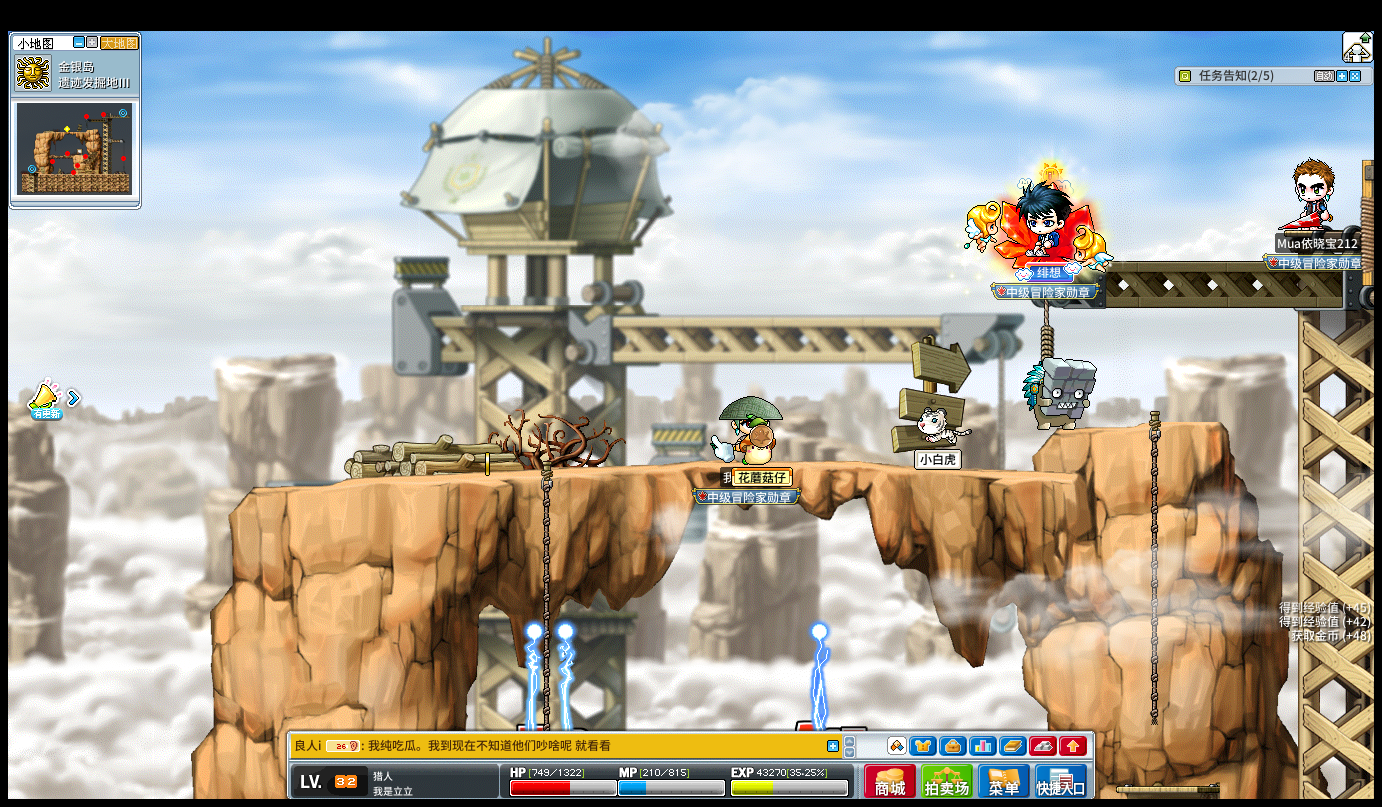floor: (237, 454, 1114, 488), (1057, 418, 1226, 433)
monster: (1021, 356, 1096, 433)
rope: (1146, 406, 1160, 724), (540, 456, 552, 712)
